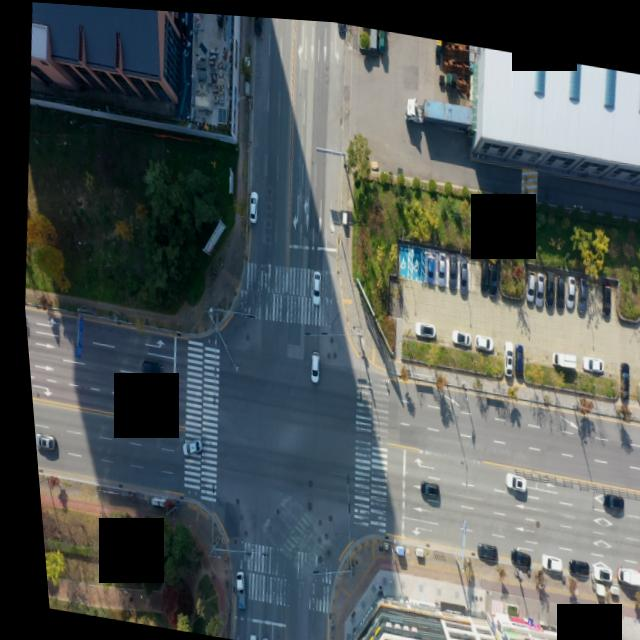car: (610, 354, 627, 396), (472, 250, 487, 289), (304, 264, 318, 302), (430, 246, 444, 284), (506, 336, 521, 371), (571, 270, 585, 307), (497, 334, 511, 370), (549, 267, 563, 303), (442, 251, 456, 287), (175, 434, 197, 455), (595, 483, 619, 502), (452, 254, 465, 288), (242, 185, 255, 219), (482, 257, 495, 291), (111, 397, 134, 416), (498, 465, 521, 484), (501, 540, 524, 559), (576, 345, 599, 364), (559, 269, 572, 302), (540, 267, 553, 300), (595, 276, 608, 309), (28, 430, 50, 449), (302, 347, 315, 379), (559, 550, 582, 568), (519, 265, 532, 296), (532, 546, 554, 564), (408, 314, 430, 332), (420, 251, 433, 280), (136, 359, 158, 376), (140, 402, 160, 420), (446, 321, 466, 339), (468, 534, 489, 551), (594, 489, 615, 506), (469, 326, 488, 344), (528, 268, 539, 299), (414, 475, 434, 492), (582, 556, 602, 573), (251, 13, 263, 32), (634, 565, 640, 583), (239, 631, 248, 640)
large_truck: (402, 87, 477, 126)
small_truck: (223, 566, 238, 608), (607, 557, 633, 577), (546, 341, 573, 360)
